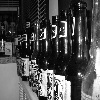beer: (37, 23, 57, 100)
